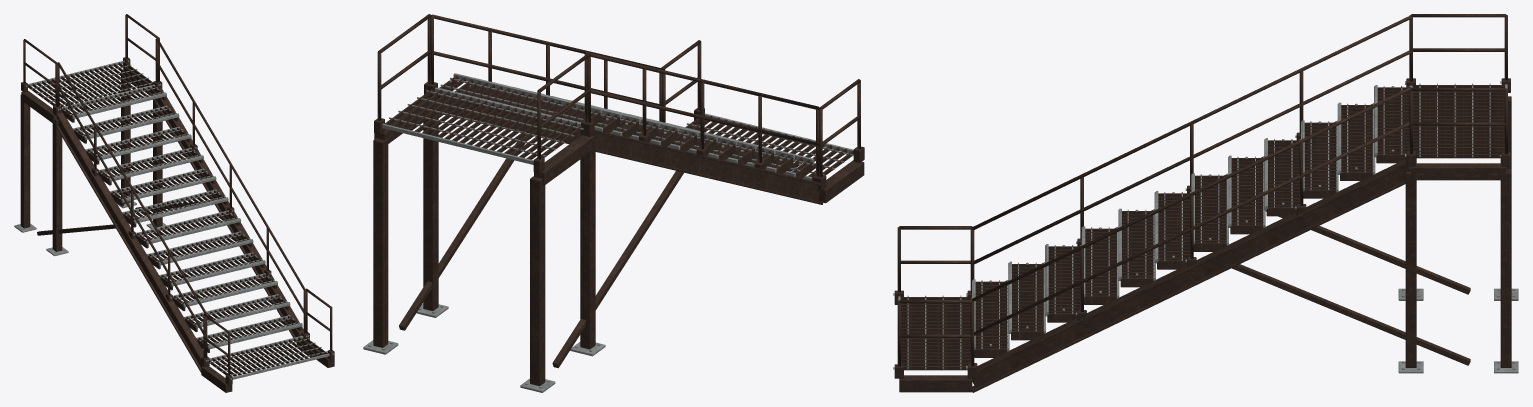
The model's file is f3_v3_straight_access_stair.glb.
3 views of the same model, side by side, from view 1: azimuth 30°, elevation 25°; view 2: azimuth 150°, elevation 25°; view 3: azimuth 270°, elevation 25° (orthographic). The views are drawn at different scales.
Parts seen in each view (by area): view 1: f3_oxidized_iron_surface, f3_bare_worn_steel_surface; view 2: f3_oxidized_iron_surface, f3_bare_worn_steel_surface; view 3: f3_oxidized_iron_surface, f3_bare_worn_steel_surface.
Part boxes in pixels (x1,y1,x2,y2): f3_oxidized_iron_surface: (20, 14, 334, 392); f3_bare_worn_steel_surface: (14, 60, 333, 379); f3_oxidized_iron_surface: (373, 14, 864, 386); f3_bare_worn_steel_surface: (363, 73, 853, 392); f3_oxidized_iron_surface: (894, 14, 1511, 392); f3_bare_worn_steel_surface: (893, 81, 1518, 373).
Bounding box in the file's own units: 2.69 × 4.59 × 8.55.
2 materials, 2 textured.
